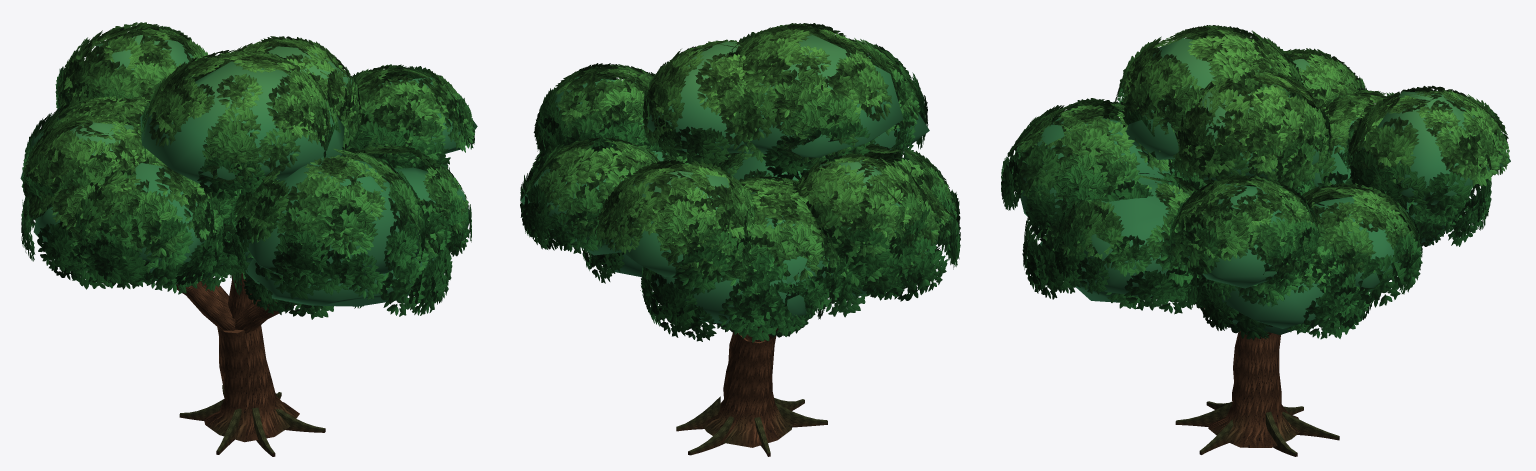
File: old_tree_1.gltf
3 views of the same model, side by side, from view 1: azimuth 30°, elevation 25°; view 2: azimuth 150°, elevation 25°; view 3: azimuth 270°, elevation 25° (orthographic).
Parts seen in each view (by area): view 1: LeafCards, LeafMass, Bark; view 2: LeafCards, LeafMass, Bark; view 3: LeafCards, LeafMass, Bark.
Part boxes in pixels (x1=…): LeafCards: x1=21, y1=22, x2=474, y2=319; LeafMass: x1=20, y1=35, x2=477, y2=306; Bark: x1=176, y1=273, x2=325, y2=456; LeafCards: x1=520, y1=23, x2=960, y2=342; LeafMass: x1=520, y1=34, x2=940, y2=326; Bark: x1=676, y1=326, x2=827, y2=456; LeafCards: x1=1001, y1=25, x2=1509, y2=340; LeafMass: x1=1020, y1=38, x2=1510, y2=334; Bark: x1=1175, y1=307, x2=1339, y2=456.
Size of what is drawn, in the model's own units: 15.66 by 13.55 by 16.74.
Materials: 3 (2 with a texture image).
